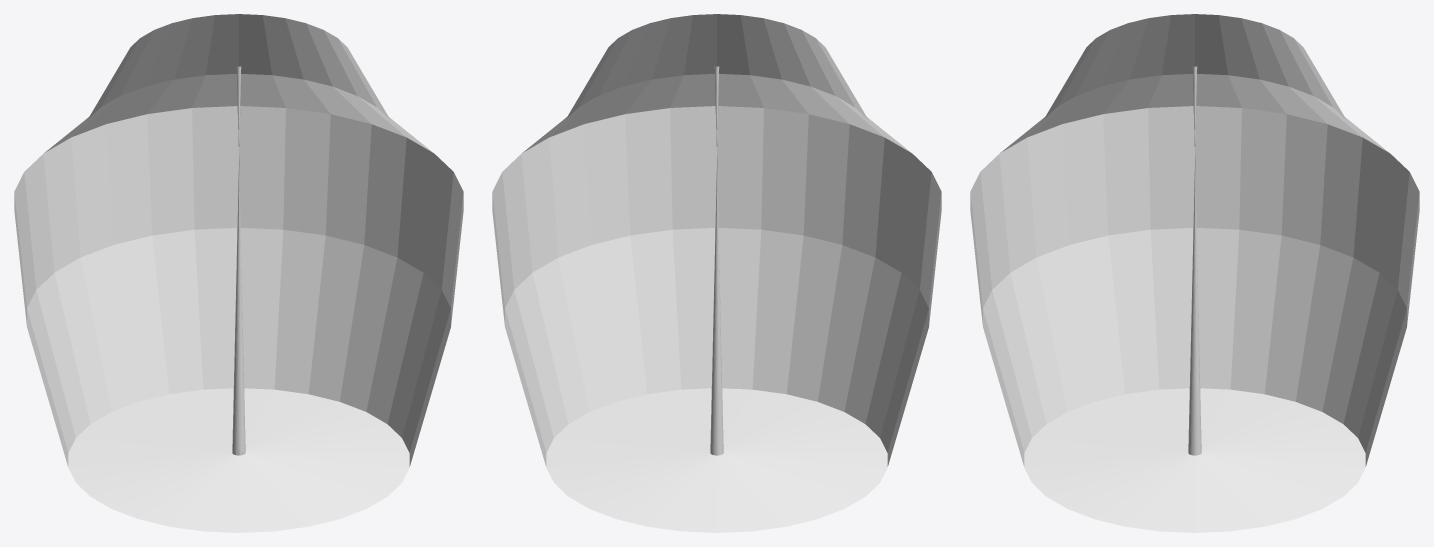
3 renders of one model, left to right at view 1: azimuth 30°, elevation 25°; view 2: azimuth 150°, elevation 25°; view 3: azimuth 270°, elevation 25°, orthographic.
Parts seen in each view (by area): view 1: algeomath; view 2: algeomath; view 3: algeomath.
Boxes of the visible parts, box(x1,y1,x2,y2) form: algeomath: box(14, 14, 463, 532); algeomath: box(492, 14, 941, 532); algeomath: box(970, 14, 1419, 532).
Size of the model in its own units: 4.04 by 3.93 by 4.02.
Materials: 1 (1 with a texture image).
